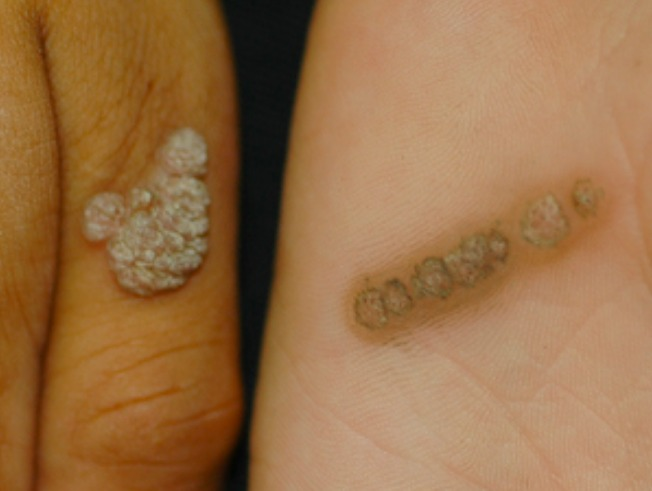Warts: (61, 104, 231, 322)
